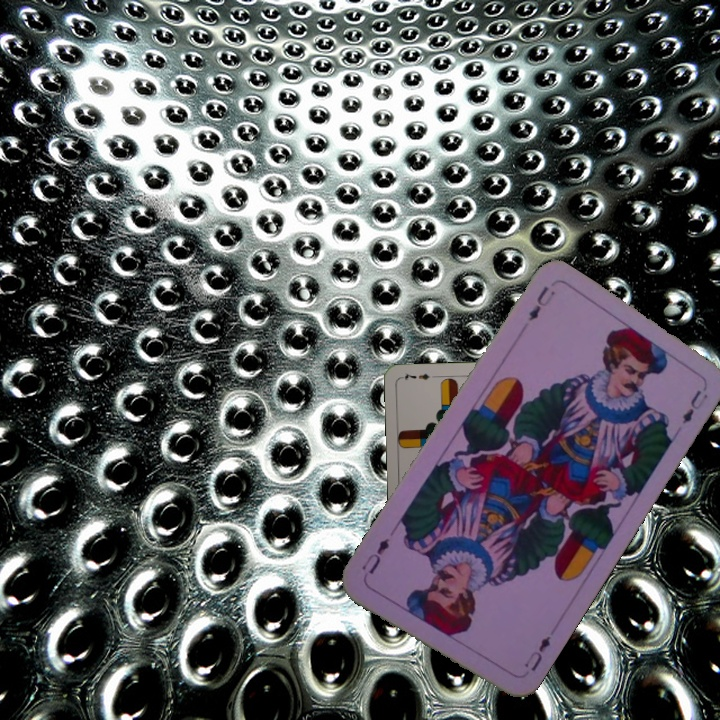EU: (520, 632, 554, 674), (524, 282, 558, 324)
